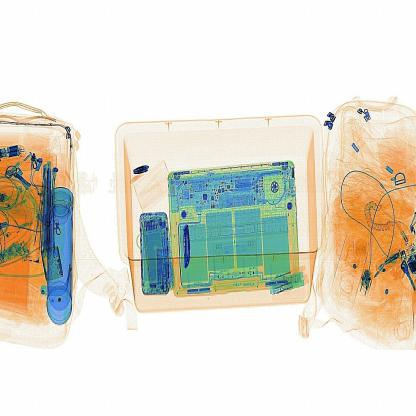knife: (175, 212, 198, 274)
